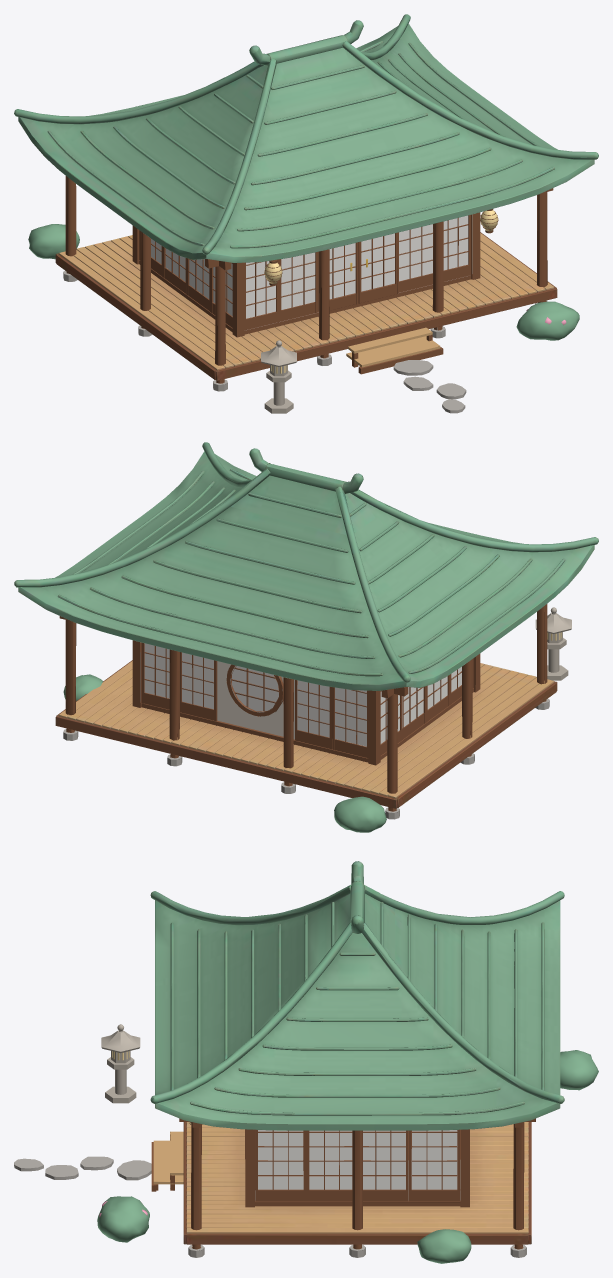
The picture shows the model from 3 angles, top to bottom: view 1: azimuth 30°, elevation 25°; view 2: azimuth 150°, elevation 25°; view 3: azimuth 270°, elevation 25°; orthographic projection. The views are drawn at different scales.
Parts seen in each view (by area): view 1: tea-house_body, tea-house_details, tea-house_garden, tea-house_plants, tea-house_sliding_door_right, tea-house_sliding_door_left; view 2: tea-house_body, tea-house_details, tea-house_plants, tea-house_garden; view 3: tea-house_body, tea-house_details, tea-house_plants, tea-house_garden.
Part boxes in pixels (box(x1,y1,x2,y2)): tea-house_body: box(14, 14, 598, 380); tea-house_details: box(63, 176, 553, 391); tea-house_garden: box(261, 340, 466, 413); tea-house_plants: box(28, 224, 579, 340); tea-house_sliding_door_right: box(358, 232, 397, 303); tea-house_sliding_door_left: box(319, 242, 358, 310); tea-house_body: box(14, 442, 598, 808); tea-house_details: box(59, 604, 549, 819); tea-house_plants: box(63, 674, 386, 832); tea-house_garden: box(535, 607, 571, 680); tea-house_body: box(150, 861, 564, 1244); tea-house_details: box(151, 1118, 535, 1257); tea-house_plants: box(97, 1050, 598, 1263); tea-house_garden: box(14, 1024, 151, 1180).
Size of the model in its own units: 10.12 by 6.36 by 11.98.
Materials: 12 (1 with a texture image).
